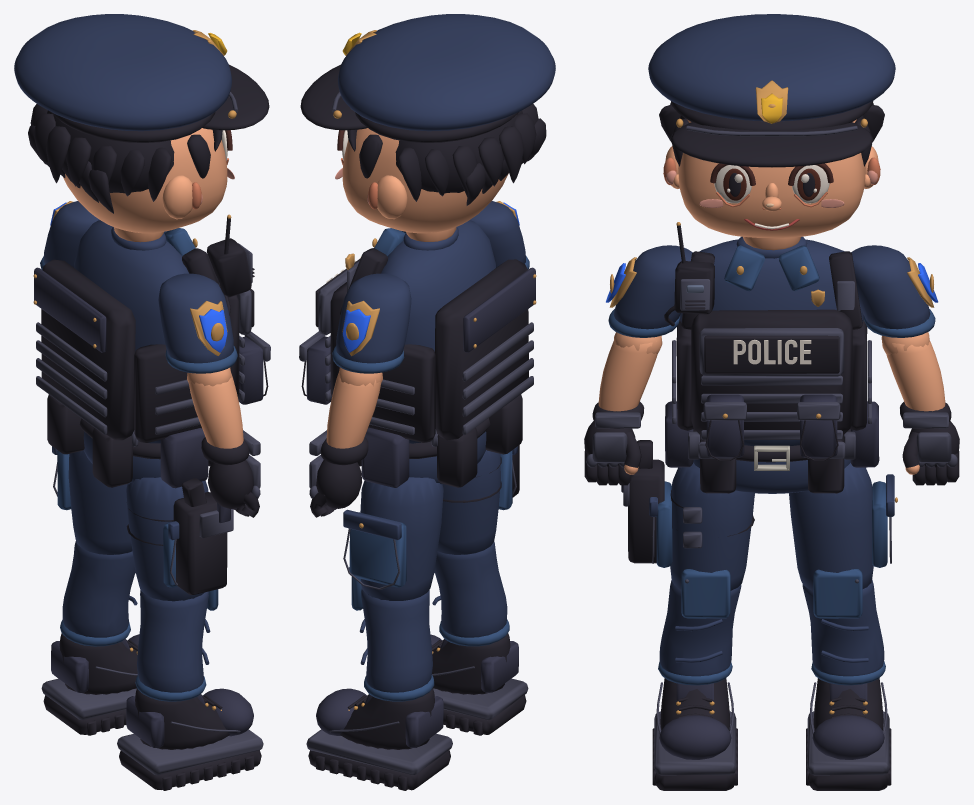
The picture shows the model from 3 angles, left to right: view 1: azimuth 30°, elevation 25°; view 2: azimuth 150°, elevation 25°; view 3: azimuth 270°, elevation 25°; orthographic projection.
Parts seen in each view (by area): view 1: head.pal_capNavy, torso.pal_uiDark, head.pal_uiDark, head.pal_skinWarm, torso.pal_capNavy, shinR.pal_capNavy, torso.pal_navySeam, footR.pal_uiDark, shinL.pal_capNavy, legR.pal_capNavy, legL.pal_capNavy, legR.pal_uiDark (+23 smaller); view 2: head.pal_capNavy, torso.pal_uiDark, head.pal_uiDark, head.pal_skinWarm, legL.pal_capNavy, torso.pal_capNavy, shinL.pal_capNavy, torso.pal_navySeam, footL.pal_uiDark, shinR.pal_capNavy, legR.pal_capNavy, armL.pal_capNavy (+22 smaller); view 3: head.pal_capNavy, torso.pal_uiDark, head.pal_skinWarm, head.pal_uiDark, torso.pal_navySeam, legL.pal_capNavy, legR.pal_capNavy, torso.pal_capNavy, armL.pal_capNavy, shinL.pal_capNavy, shinR.pal_capNavy, armR.pal_capNavy (+32 smaller).
Boxes of the visible parts, x1,y1,x2,y2 form: head.pal_capNavy: [14, 14, 231, 131]; torso.pal_uiDark: [41, 217, 268, 442]; head.pal_uiDark: [28, 64, 269, 213]; head.pal_skinWarm: [63, 128, 227, 242]; torso.pal_capNavy: [74, 220, 188, 443]; shinR.pal_capNavy: [137, 590, 210, 692]; torso.pal_navySeam: [36, 243, 270, 434]; footR.pal_uiDark: [119, 688, 261, 790]; shinL.pal_capNavy: [62, 541, 137, 637]; legR.pal_capNavy: [126, 477, 208, 601]; legL.pal_capNavy: [52, 446, 132, 554]; legR.pal_uiDark: [126, 478, 227, 594]; head.pal_capNavy: [338, 14, 555, 131]; torso.pal_uiDark: [301, 248, 528, 442]; head.pal_uiDark: [300, 64, 546, 205]; head.pal_skinWarm: [342, 128, 508, 241]; legL.pal_capNavy: [343, 477, 443, 600]; torso.pal_capNavy: [381, 220, 495, 443]; shinL.pal_capNavy: [359, 589, 432, 692]; torso.pal_navySeam: [299, 261, 533, 434]; footL.pal_uiDark: [308, 688, 450, 790]; shinR.pal_capNavy: [432, 541, 507, 637]; legR.pal_capNavy: [437, 446, 517, 554]; armL.pal_capNavy: [336, 273, 411, 363]; head.pal_capNavy: [648, 14, 895, 121]; torso.pal_uiDark: [664, 225, 867, 460]; head.pal_skinWarm: [665, 119, 878, 250]; head.pal_uiDark: [659, 101, 884, 196]; torso.pal_navySeam: [672, 279, 871, 439]; legL.pal_capNavy: [789, 463, 894, 590]; legR.pal_capNavy: [649, 462, 754, 590]; torso.pal_capNavy: [680, 236, 863, 446]; armL.pal_capNavy: [851, 245, 930, 329]; shinL.pal_capNavy: [802, 579, 884, 676]; shinR.pal_capNavy: [659, 580, 741, 676]; armR.pal_capNavy: [613, 245, 692, 329].
Bounding box in the file's own units: 0.4588 × 1.42 × 0.6764.
